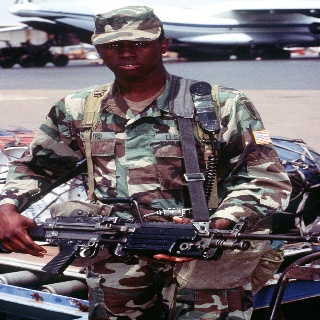rifle: (2, 209, 320, 277)
